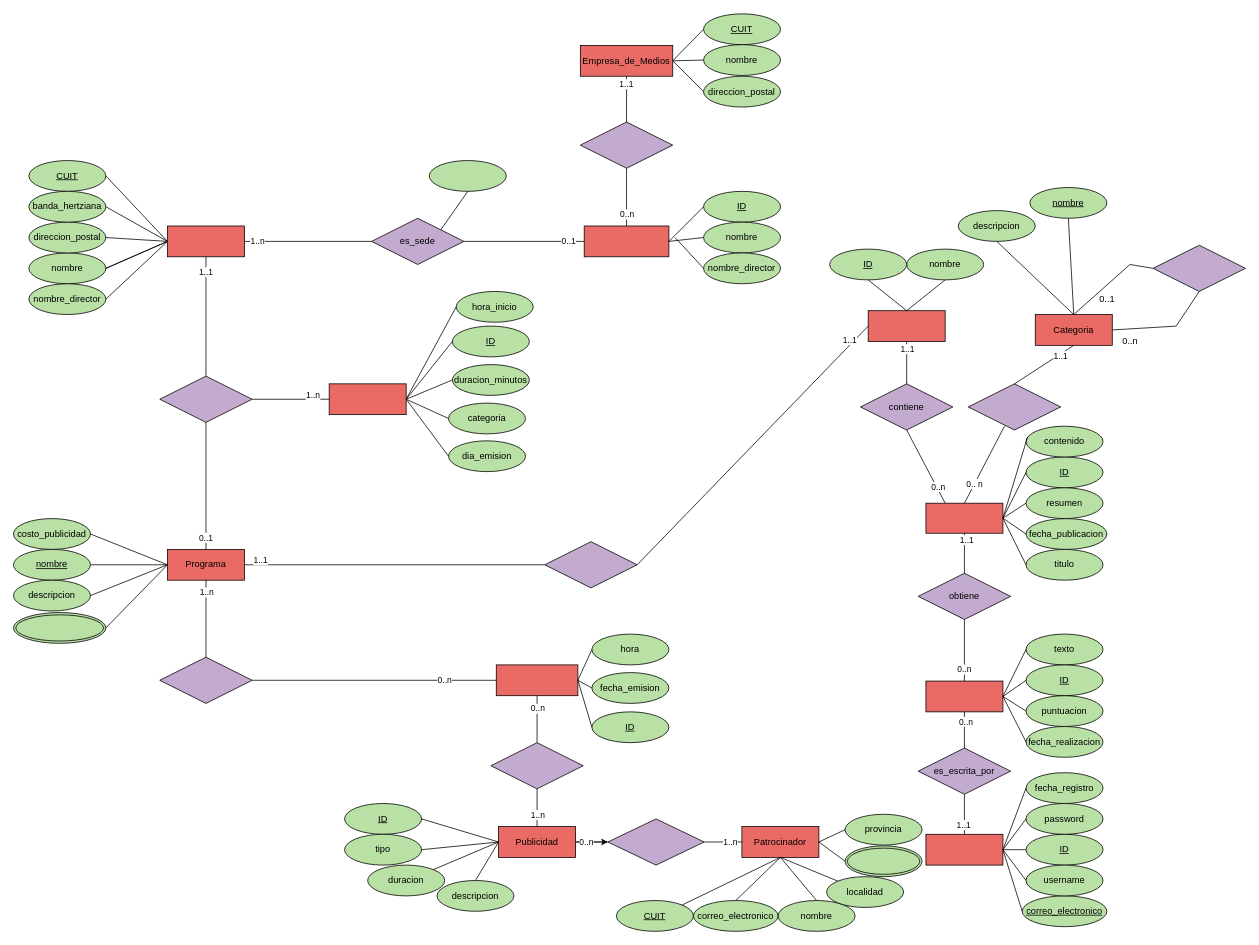
Image size: 1259x945. Some labels were removed from this diagram. The box of each missing label's shape, as (x1, y1, x2, y2) in pixels:
asocia: (580, 121, 673, 168)
Blog: (867, 310, 945, 341)
Cadena_de_Radio: (583, 225, 669, 257)
categoriza: (968, 383, 1061, 430)
Comentario: (925, 680, 1003, 712)
Cuenta_Oyente: (925, 834, 1003, 865)
Emisora: (167, 225, 244, 257)
es_central: (429, 160, 506, 191)
es_patrocinada_por: (607, 818, 704, 865)
Es_subCategoria: (1152, 244, 1245, 291)
Franja_Horaria: (328, 383, 406, 415)
nombre_conductor: (13, 612, 106, 643)
Nota: (925, 502, 1003, 533)
posee: (544, 541, 637, 588)
publica: (159, 656, 252, 703)
se_emite_en: (159, 375, 252, 422)
Tanda_Publicitaria: (495, 664, 578, 696)
telefono: (844, 845, 922, 877)
tiene: (490, 742, 583, 789)
